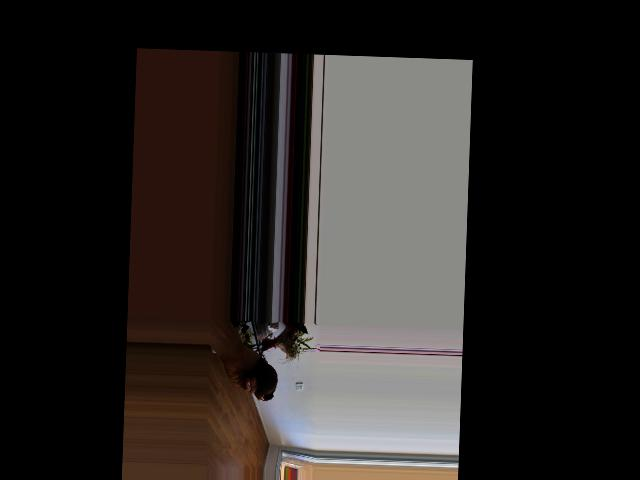beet: (253, 333, 279, 401)
